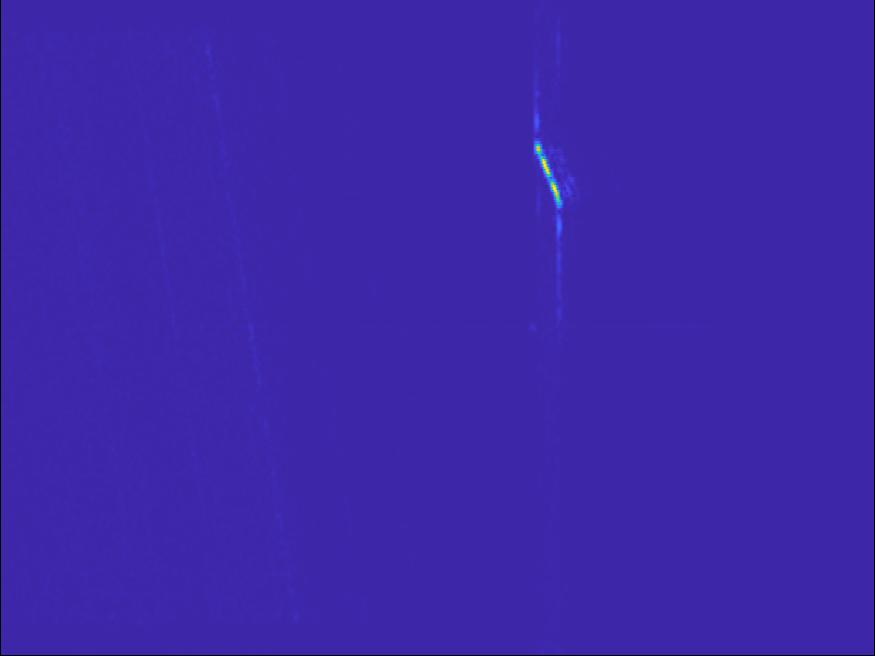Interference: (325, 101, 544, 247), (242, 281, 411, 354), (424, 289, 554, 372)
